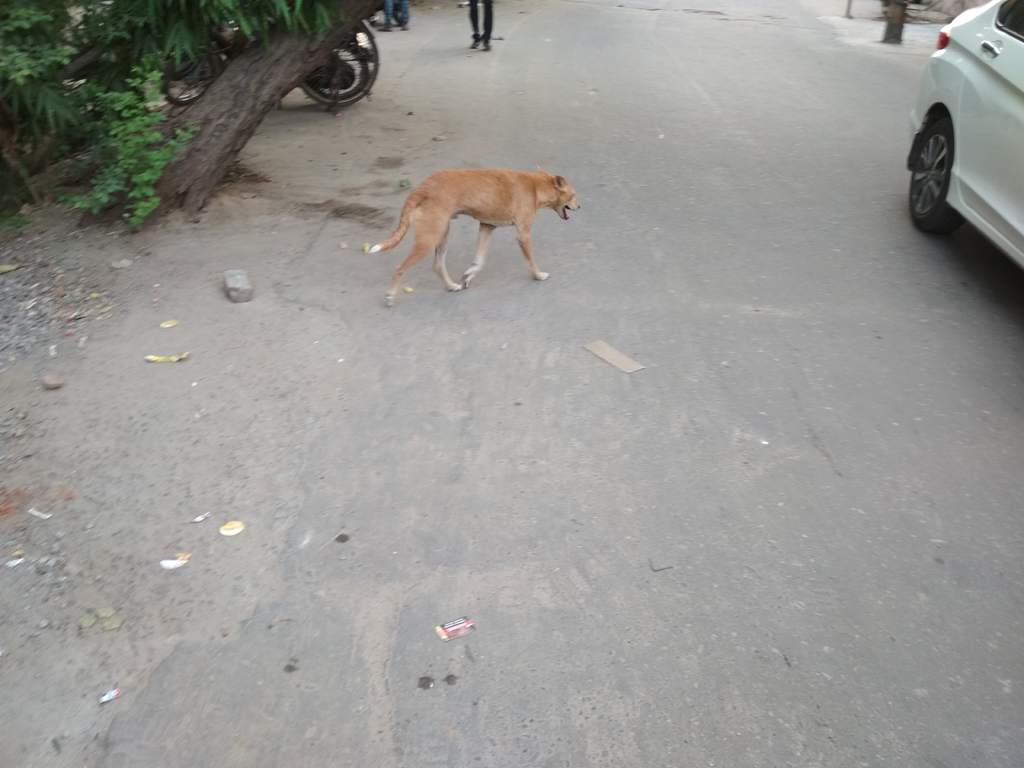dog: (368, 165, 581, 307)
